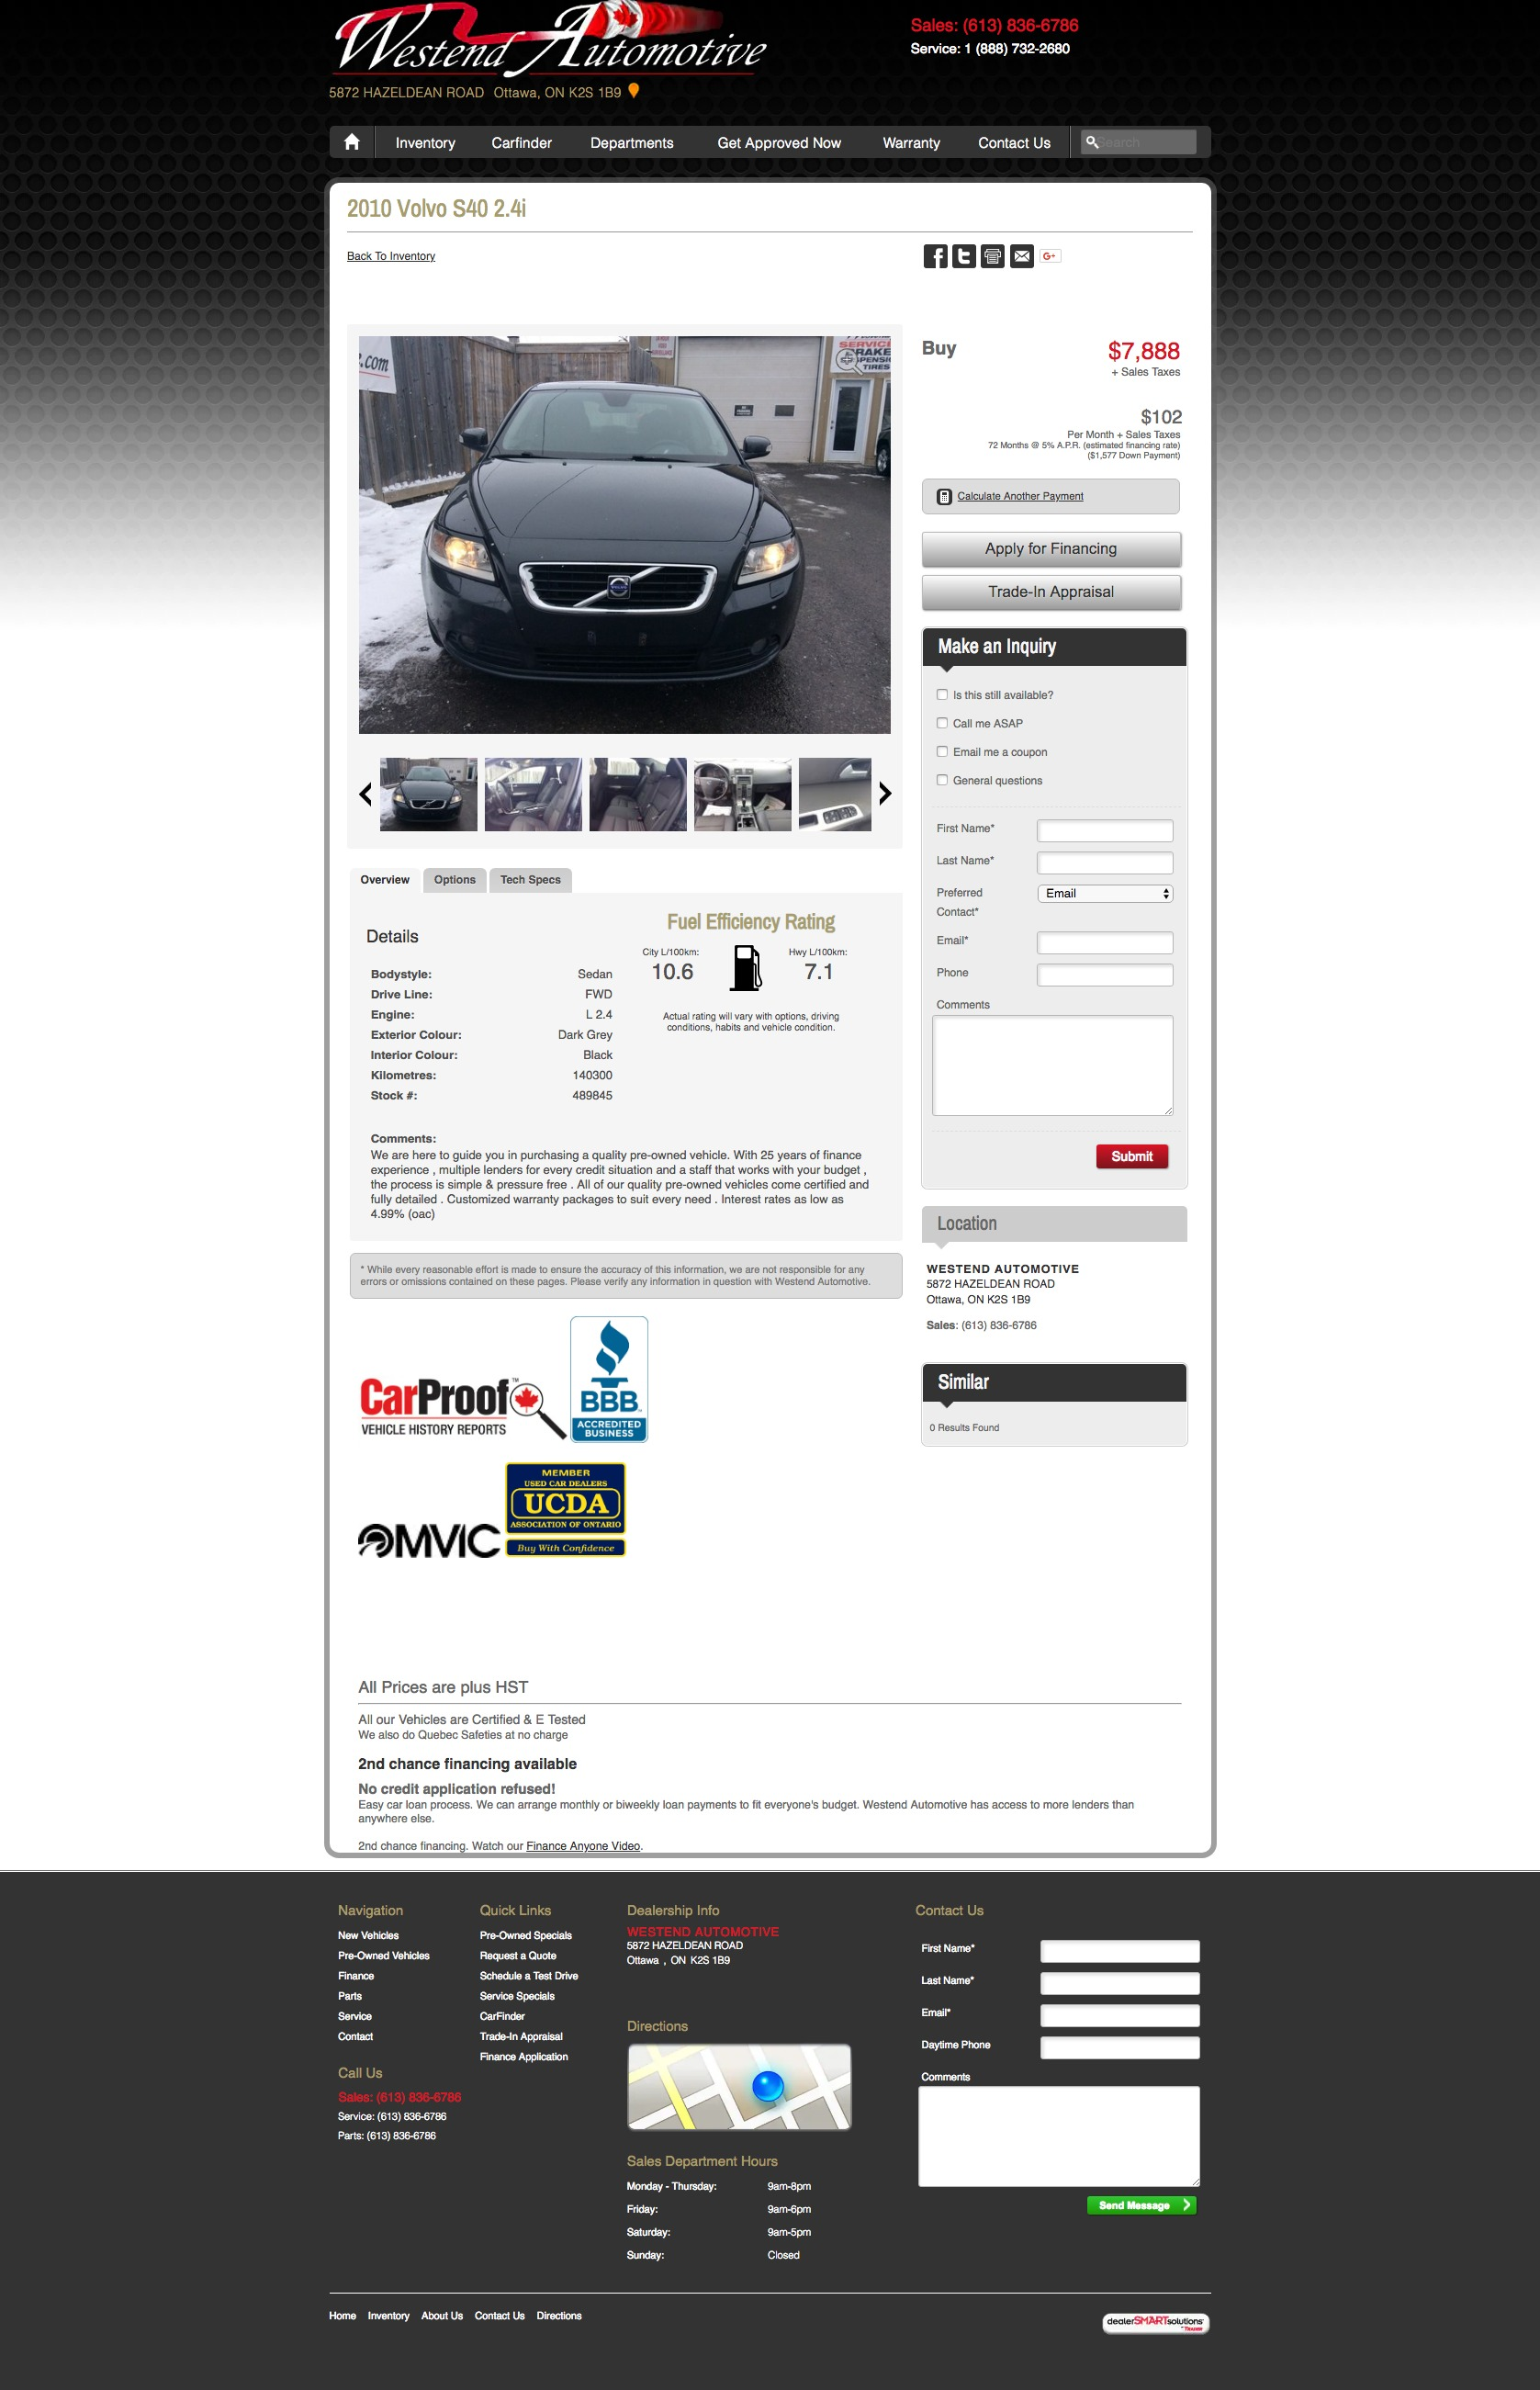car: (878, 780, 894, 807)
